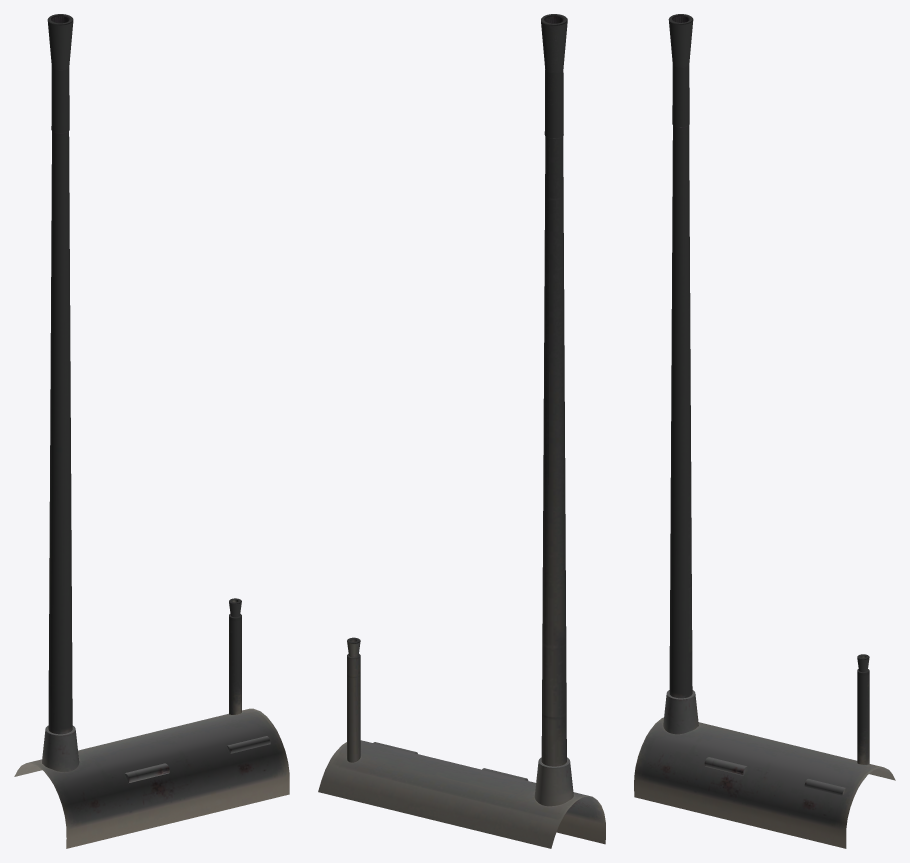
File: Gun_02.glb
3 renders of one model, left to right at view 1: azimuth 30°, elevation 25°; view 2: azimuth 150°, elevation 25°; view 3: azimuth 330°, elevation 25°, orthographic. The views are drawn at different scales.
Parts seen in each view (by area): view 1: set_0_group_0; view 2: set_0_group_0; view 3: set_0_group_0.
Boxes of the visible parts, x1=… form: set_0_group_0: x1=14, y1=14, x2=289, y2=848; set_0_group_0: x1=318, y1=14, x2=605, y2=848; set_0_group_0: x1=634, y1=14, x2=895, y2=848.
Bounding box in the file's own units: 0.6829 × 2.35 × 0.2771.
Materials: 1 (1 with a texture image).
